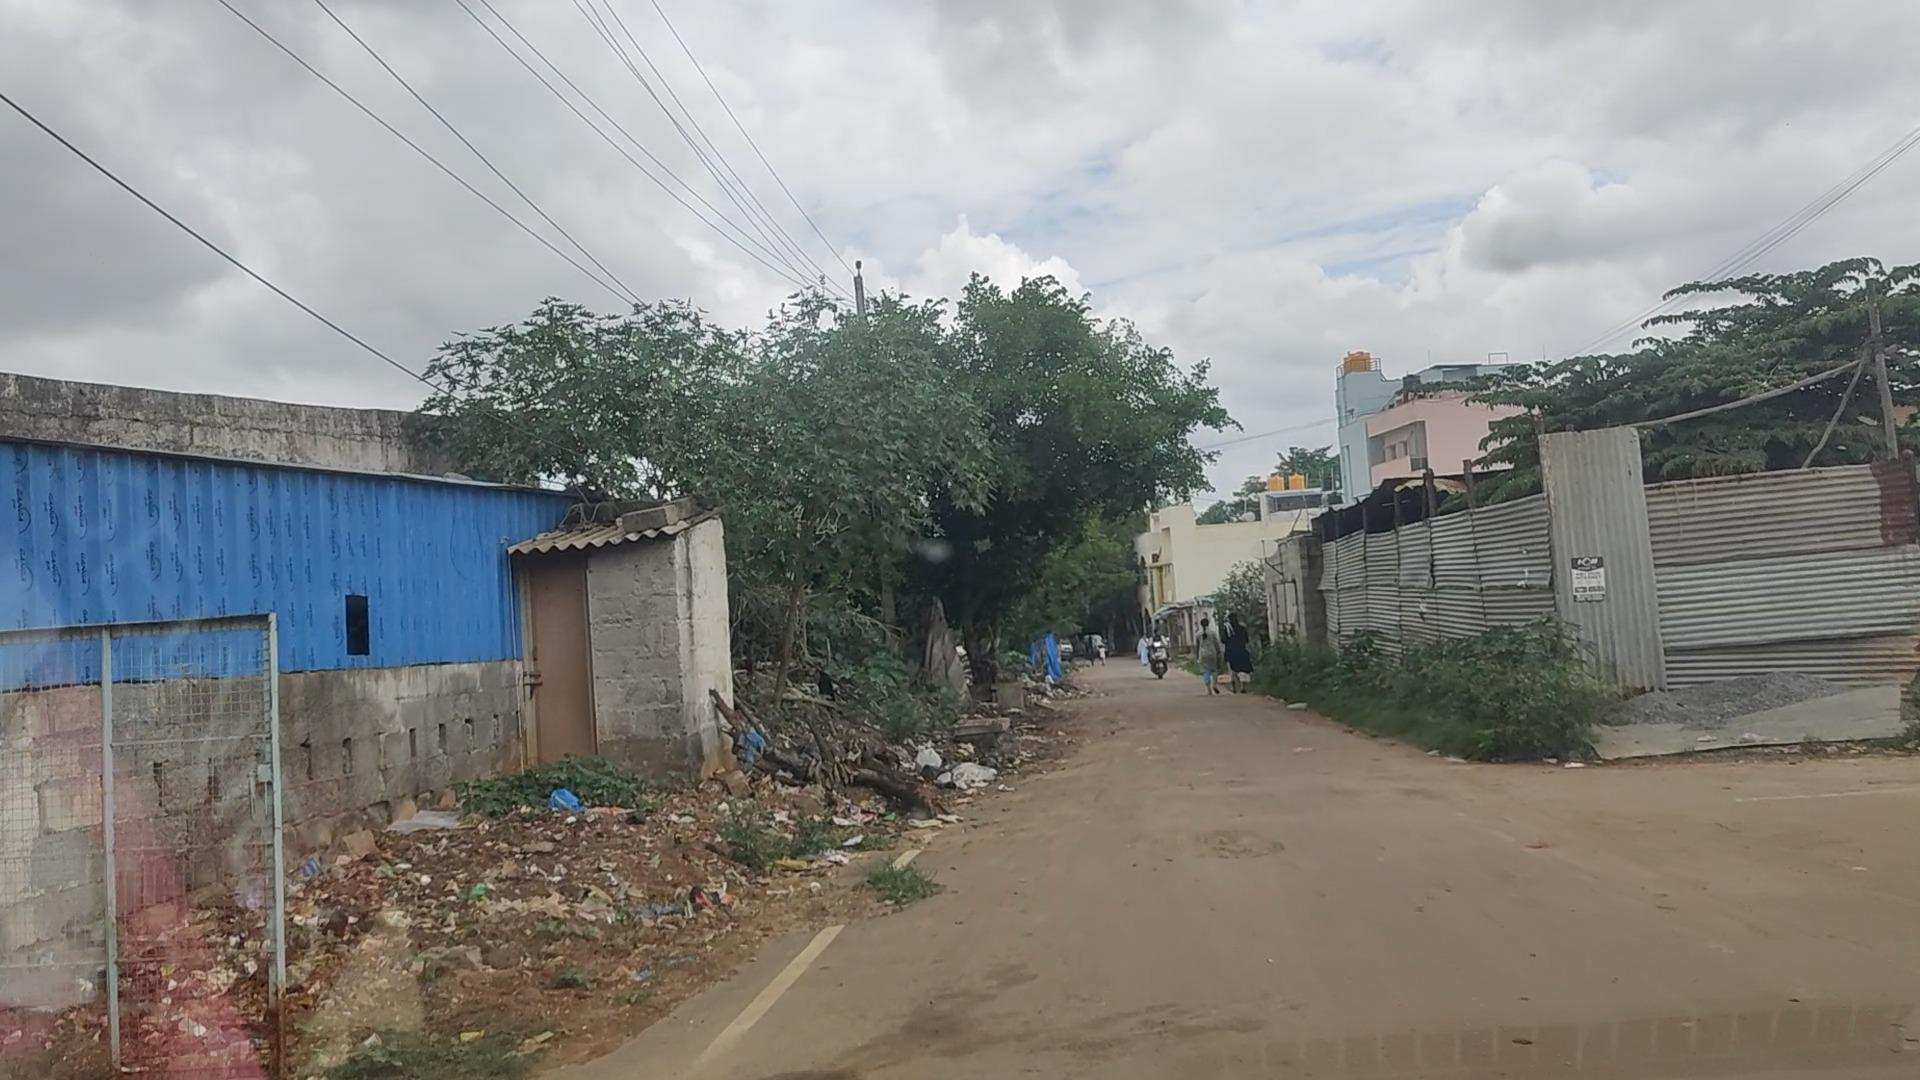RoadDamages: (1164, 815, 1299, 878)
